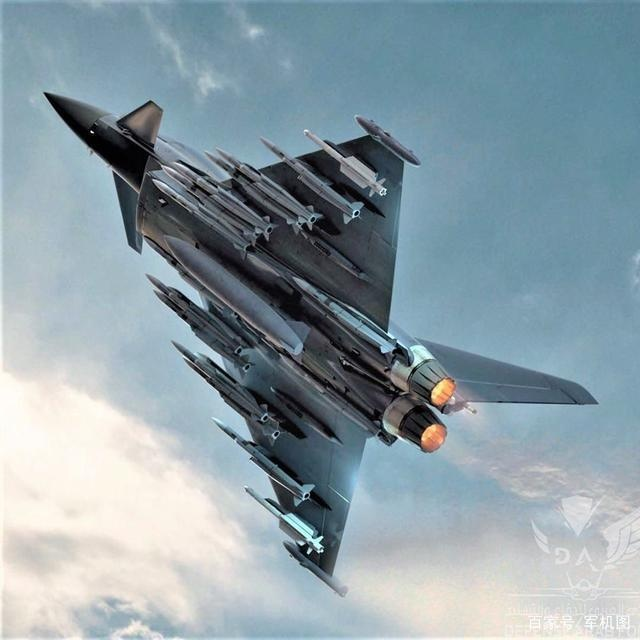airplane: (31, 84, 603, 600)
